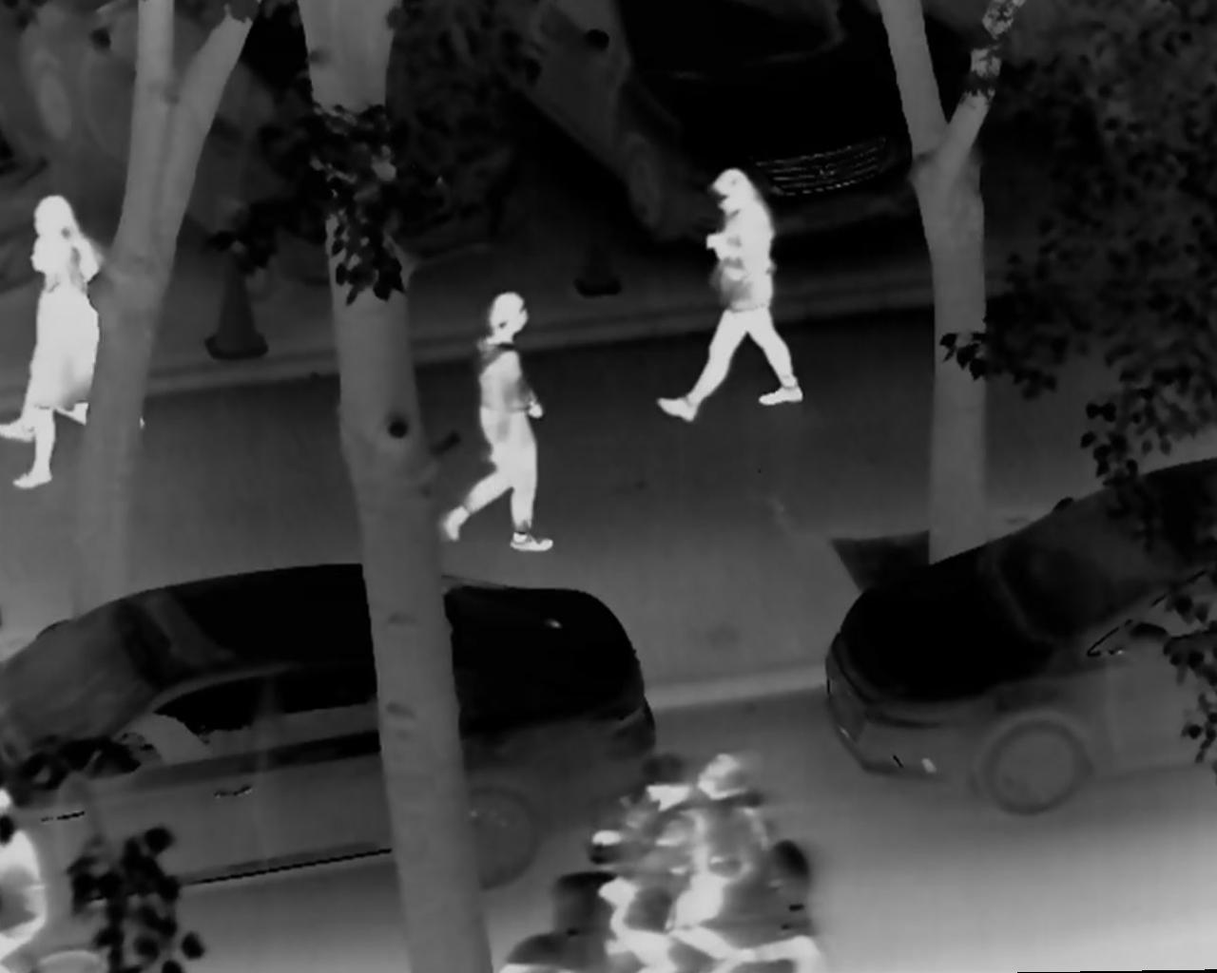person: (653, 166, 816, 425), (13, 227, 156, 490), (438, 288, 560, 559), (580, 751, 698, 973), (666, 741, 780, 970)
